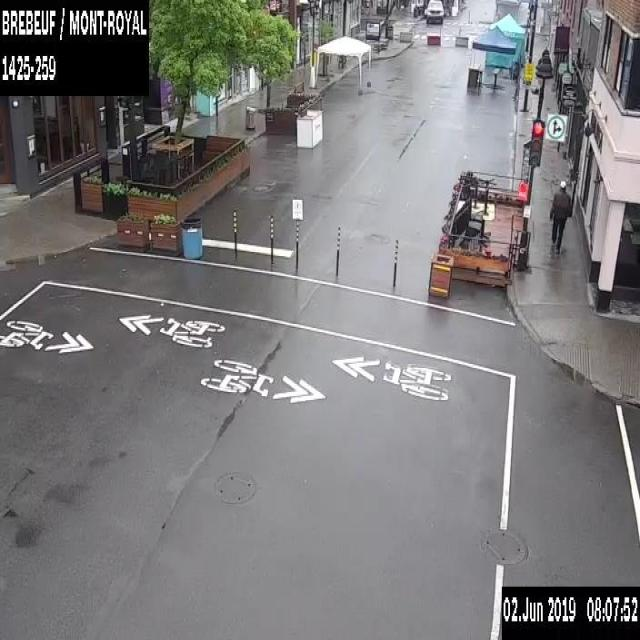pedestrian: (548, 179, 571, 248)
vehicle: (424, 0, 446, 24)
